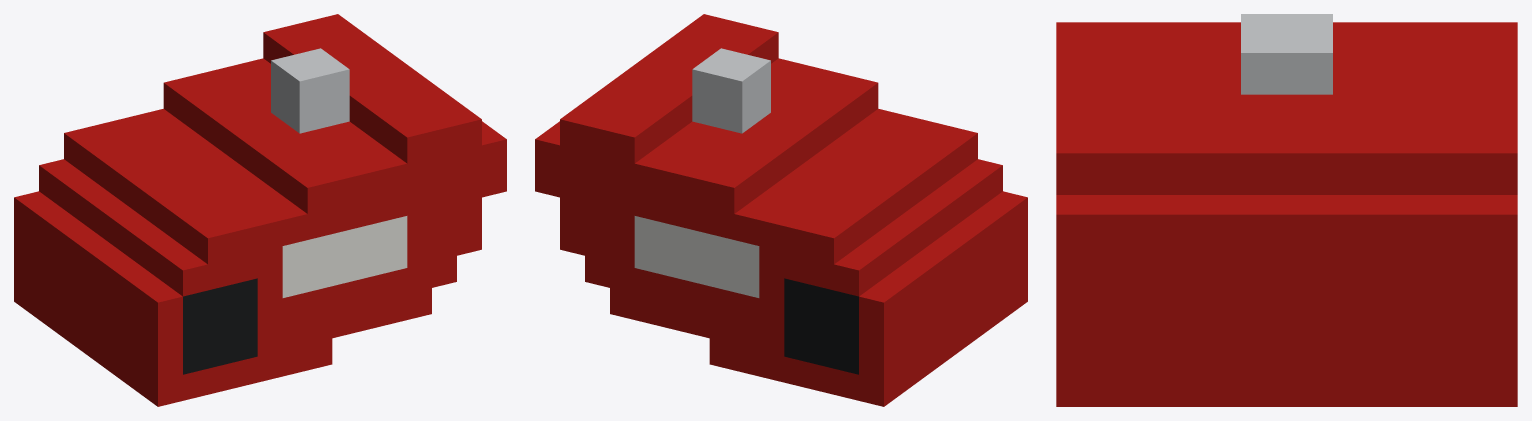
Rendered from motorbike_tank.glb.
The picture shows the model from 3 angles, left to right: view 1: azimuth 30°, elevation 25°; view 2: azimuth 150°, elevation 25°; view 3: azimuth 270°, elevation 25°; orthographic projection. The views are drawn at different scales.
Parts seen in each view (by area): view 1: body:compound; view 2: body:compound; view 3: body:compound.
Part boxes in pixels (x1,y1,x2,y2): body:compound: [14, 14, 506, 406]; body:compound: [535, 14, 1027, 406]; body:compound: [1056, 14, 1517, 406].
Size of the model in its own units: 0.4375 by 0.2812 by 0.3125.
